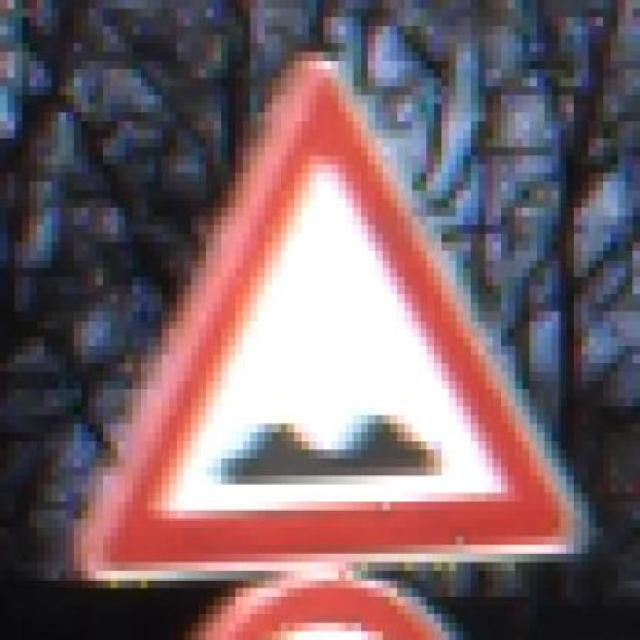Uneven Road: (66, 43, 611, 588)
